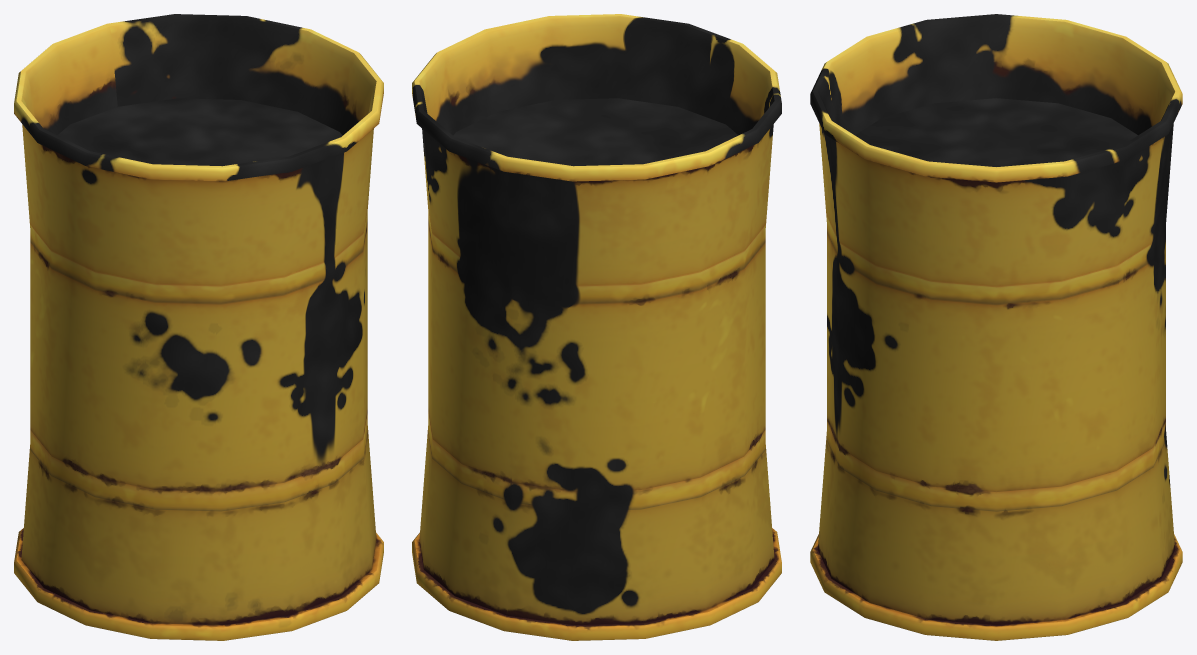
Rendered from BarrelMetallic03_2.FBX.
3 views of the same model, side by side, from view 1: azimuth 30°, elevation 25°; view 2: azimuth 150°, elevation 25°; view 3: azimuth 270°, elevation 25° (orthographic).
Visible parts, largest first — view 1: BarrelMetallic03_2; view 2: BarrelMetallic03_2; view 3: BarrelMetallic03_2.
Part boxes in pixels (x1,y1,x2,y2): BarrelMetallic03_2: (14, 14, 383, 640); BarrelMetallic03_2: (412, 14, 781, 640); BarrelMetallic03_2: (810, 14, 1182, 640).
Size of what is drawn, in the model's own units: 0.7514 by 1.05 by 0.7514.
